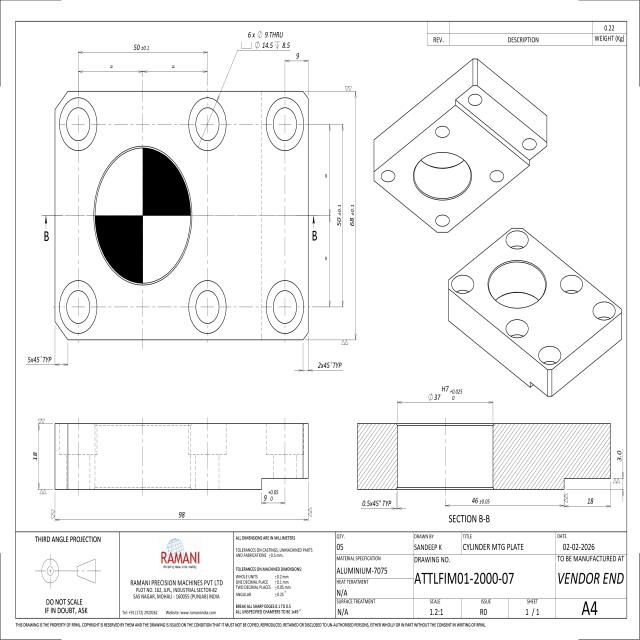dimension: (240, 29, 292, 50), (427, 382, 464, 402), (362, 498, 392, 508), (26, 354, 53, 364), (317, 360, 342, 370), (262, 488, 280, 501), (470, 495, 491, 504), (132, 42, 150, 52), (349, 202, 355, 228), (337, 202, 342, 228), (177, 510, 186, 520), (616, 448, 622, 462), (586, 496, 594, 506), (32, 449, 38, 462), (294, 50, 300, 60)
